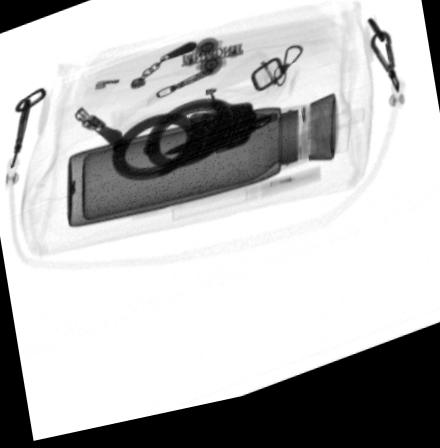Bullet: (161, 134, 235, 160)
HandCuffs: (111, 106, 276, 185)
